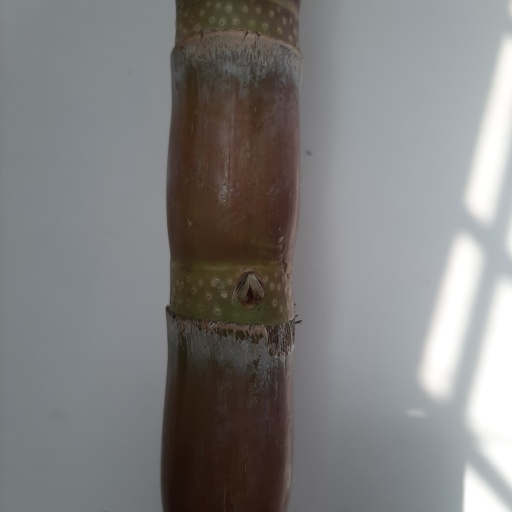Bud: (233, 269, 266, 305)
